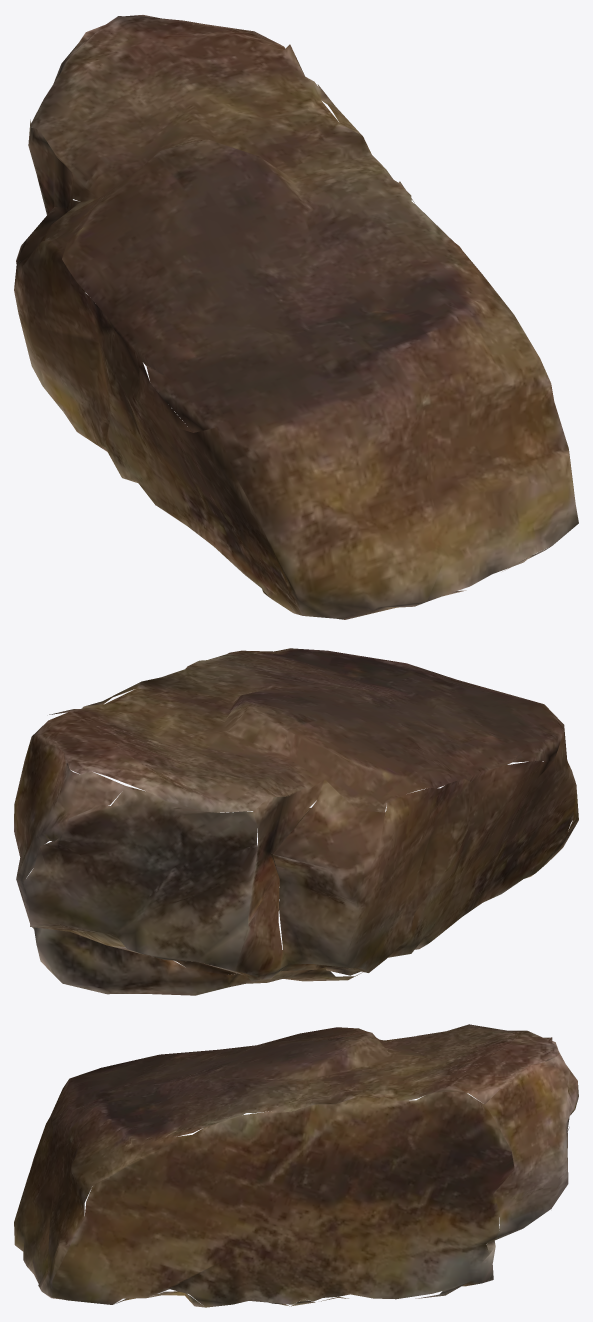
Rendered from veg-rock-garden-d247318bc7e9.glb.
3 views of the same model, one above another, from view 1: azimuth 30°, elevation 25°; view 2: azimuth 150°, elevation 25°; view 3: azimuth 270°, elevation 25° (orthographic). The views are drawn at different scales.
Parts seen in each view (by area): view 1: veg-rock-garden; view 2: veg-rock-garden; view 3: veg-rock-garden.
Boxes of the visible parts, left/top/right/bottom form: veg-rock-garden: left=14, top=15, right=578, bottom=619; veg-rock-garden: left=14, top=648, right=578, bottom=995; veg-rock-garden: left=14, top=1024, right=578, bottom=1307.
Size of the model in its own units: 0.4256 by 0.36 by 0.8105.
1 material, 1 textured.
